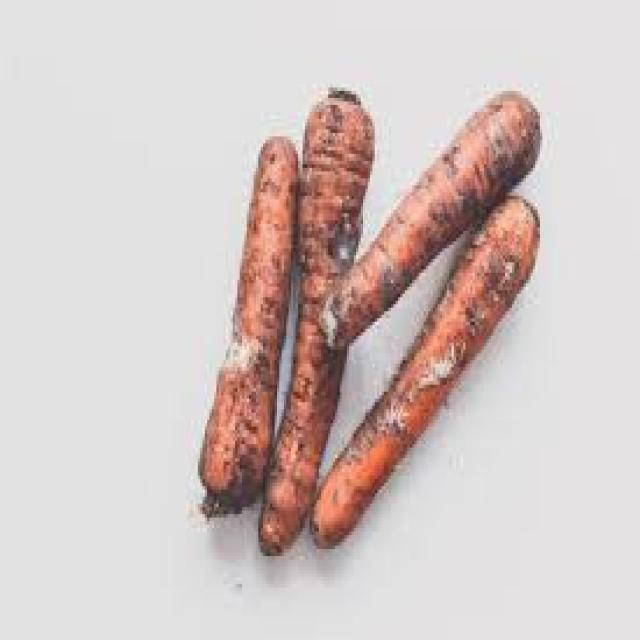Stale_Carrot: (307, 182, 586, 542), (249, 50, 388, 555), (307, 78, 544, 350), (211, 129, 302, 520)
